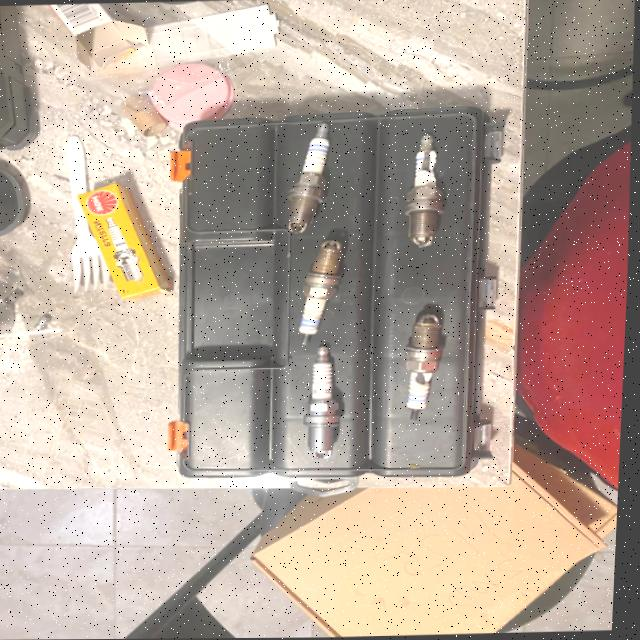damaged_spark-plug: (398, 310, 454, 419), (405, 133, 453, 252)
spark-plug: (284, 121, 336, 231), (303, 345, 343, 462), (299, 241, 346, 340)
